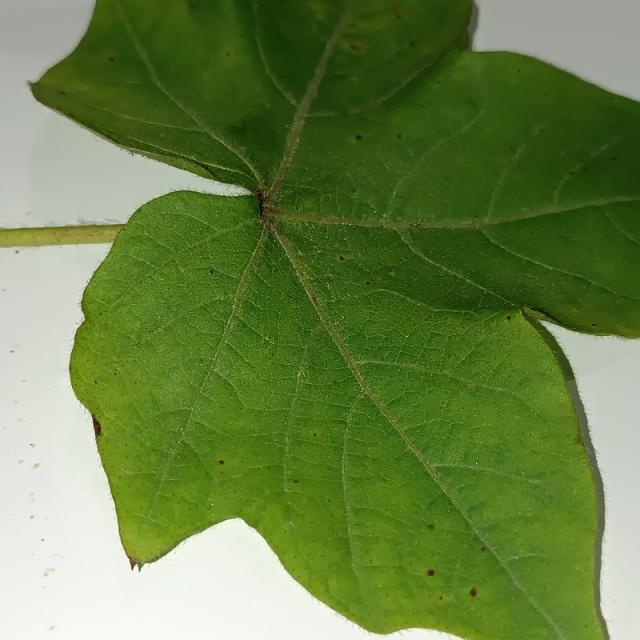Bacterial_Blight: (458, 583, 484, 605), (424, 563, 440, 583), (214, 458, 225, 469), (208, 267, 216, 276), (427, 524, 435, 530), (326, 276, 333, 282), (355, 134, 362, 140), (108, 57, 115, 62), (506, 315, 511, 321), (59, 91, 66, 95), (397, 133, 402, 138), (591, 323, 597, 327), (293, 479, 299, 483), (365, 281, 370, 285), (313, 432, 317, 437), (474, 214, 478, 218), (114, 371, 117, 375)
Cotton: (32, 0, 639, 639)
